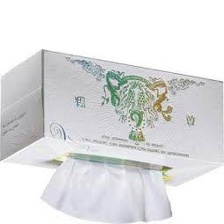book: (0, 47, 224, 189)
tissue: (37, 154, 175, 224)
